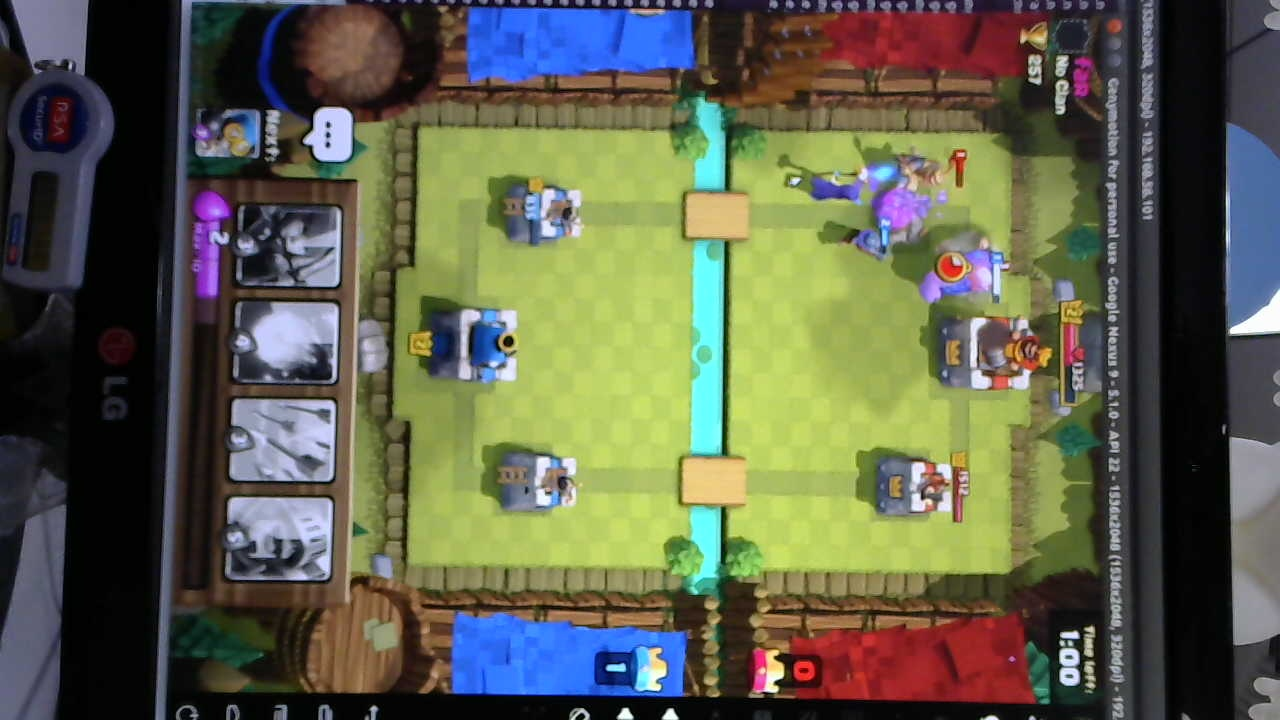arena: (493, 447, 580, 518), (507, 181, 586, 246)
earena: (874, 454, 957, 518)
eking: (941, 310, 1047, 395)
giant: (930, 234, 986, 310)
king: (436, 303, 522, 388)
musketeer: (844, 223, 886, 260)
prince: (883, 150, 954, 195)
witch: (807, 165, 873, 206)
